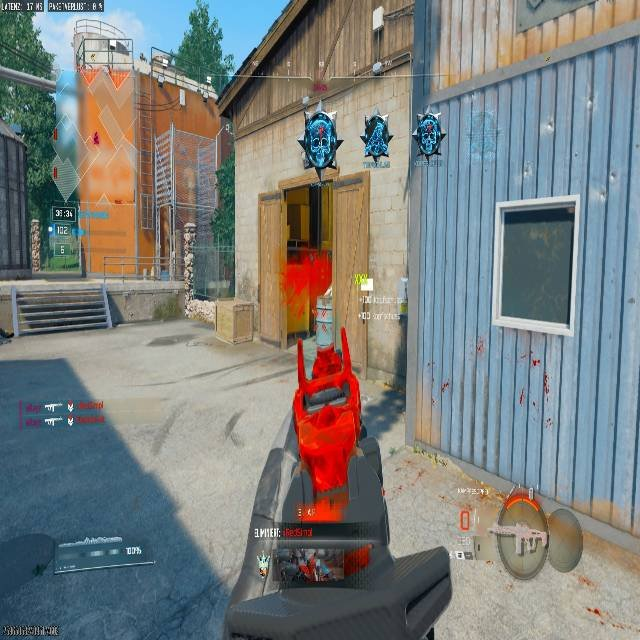player: (297, 99, 341, 184), (361, 112, 391, 167)
